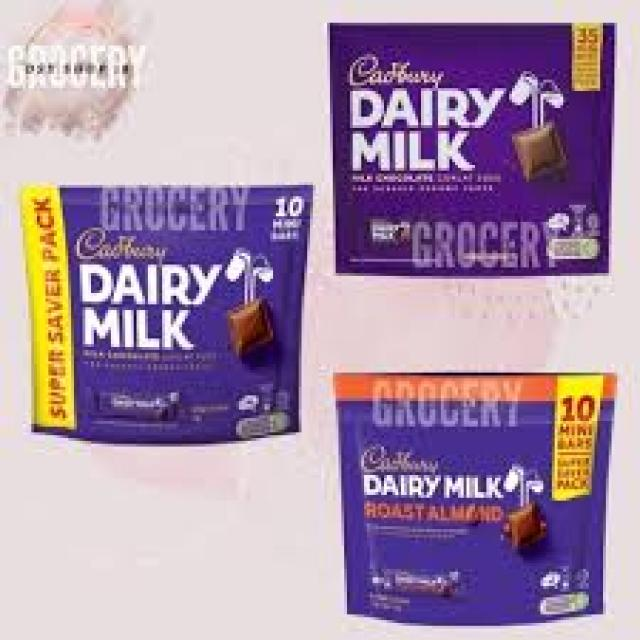cadbury: (21, 183, 306, 439), (332, 22, 616, 278), (337, 372, 613, 618)
